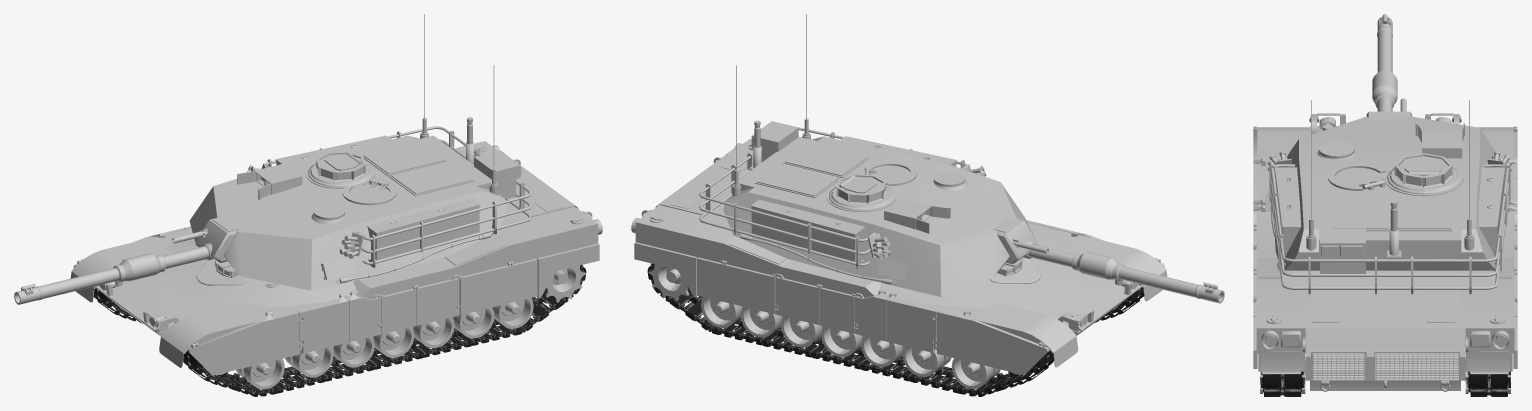
The model's file is Tank 2.fbx.
3 renders of one model, left to right at view 1: azimuth 30°, elevation 25°; view 2: azimuth 150°, elevation 25°; view 3: azimuth 270°, elevation 25°, orthographic. The views are drawn at different scales.
Visible parts, largest first — view 1: Material_001-material, Material_002-material; view 2: Material_001-material, Material_002-material; view 3: Material_001-material, Material_002-material.
Boxes of the visible parts, box(x1,y1,x2,y2) form: Material_001-material: box(14, 14, 602, 389); Material_002-material: box(93, 265, 586, 396); Material_001-material: box(631, 14, 1224, 389); Material_002-material: box(647, 263, 1144, 396); Material_001-material: box(1253, 14, 1517, 393); Material_002-material: box(1261, 371, 1510, 396).
Size of the model in its own units: 104 by 47.28 by 38.91.
